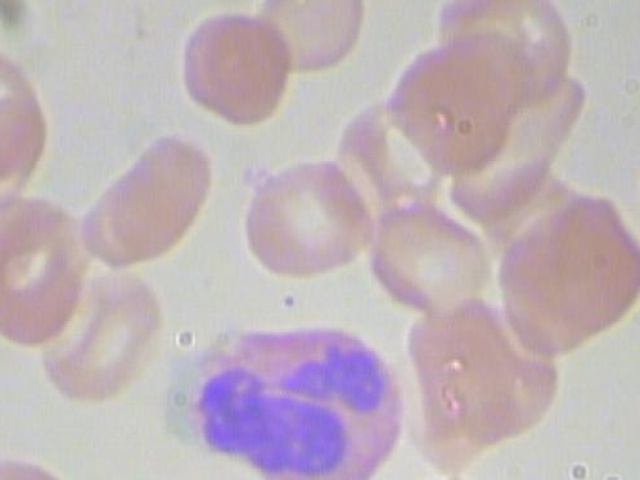RBC: (381, 31, 527, 183), (73, 126, 218, 275), (37, 249, 170, 404), (520, 189, 640, 345), (239, 141, 367, 286), (365, 189, 493, 316), (0, 192, 96, 351), (180, 9, 297, 123), (250, 0, 369, 73), (0, 31, 52, 186), (632, 105, 640, 257), (376, 474, 495, 480)
WBC: (171, 294, 416, 480)
